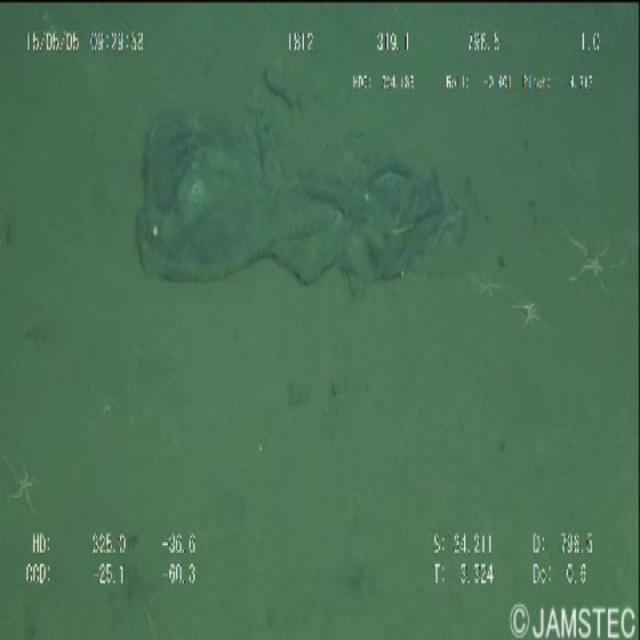Rope: (132, 91, 456, 292)
